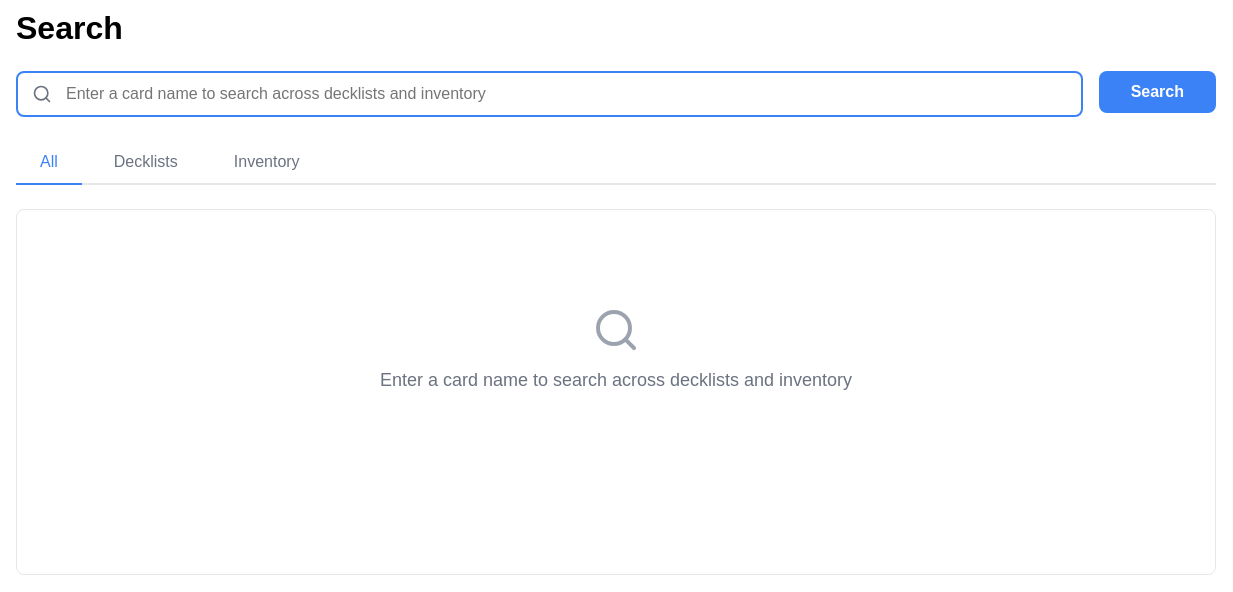
Scenario: Search Page - Tab Counts › should display zero count when no decklists found
In the field with placeholder "Enter a card name to search across decklists and inventory": (549, 94) [16,71,1083,117], type "Rare Card"
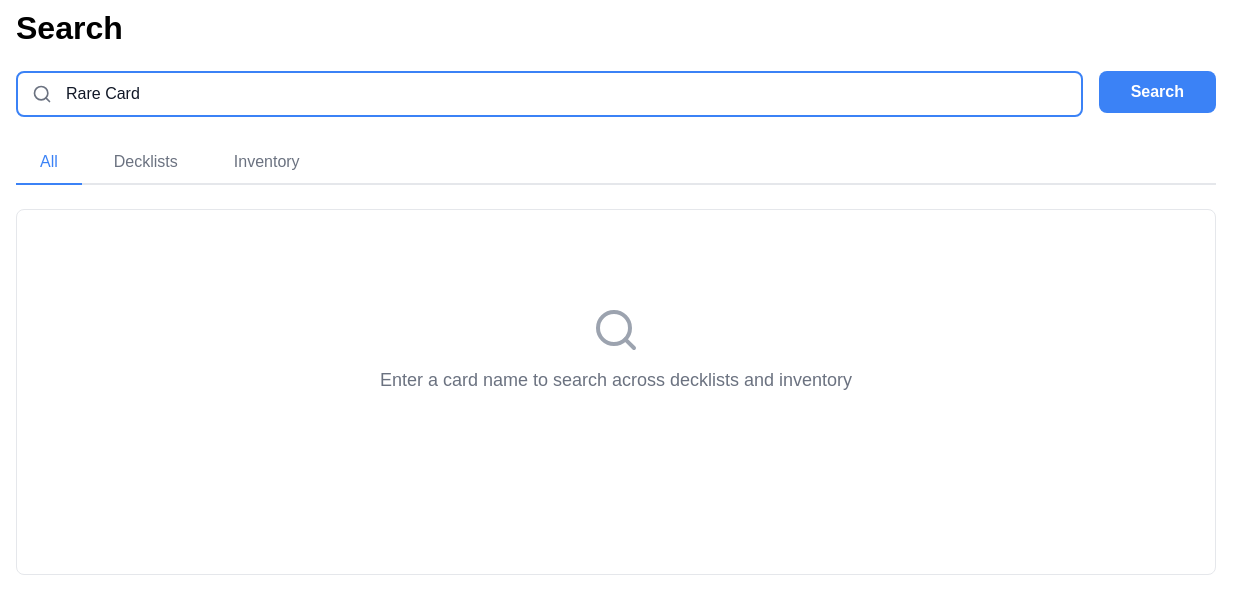
Click the button "Search": click(1157, 92) [1099,71,1216,113]
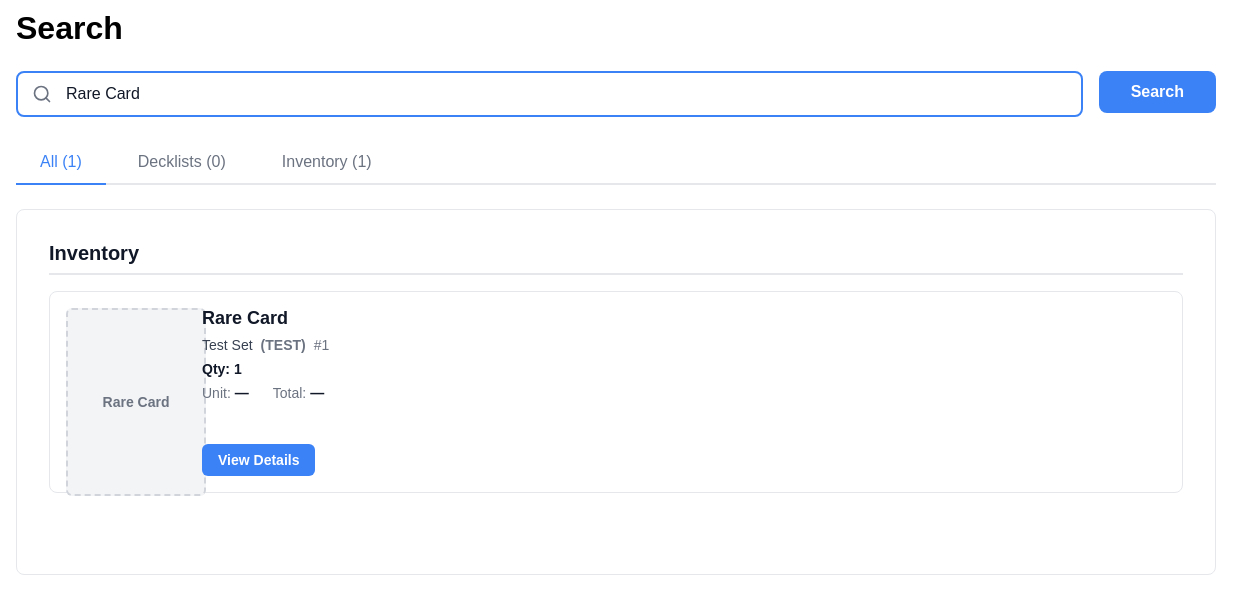
Expected: the tab "Decklists (0)" is shown, [114,141,250,185]
